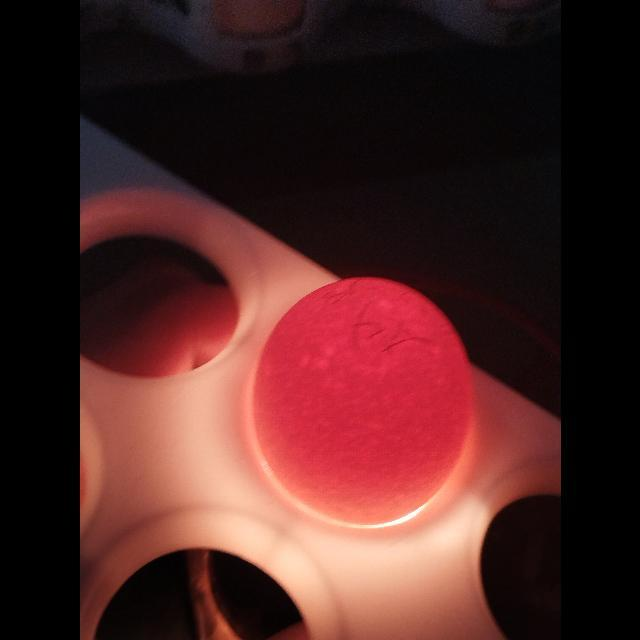Infertile: (237, 270, 463, 516)
